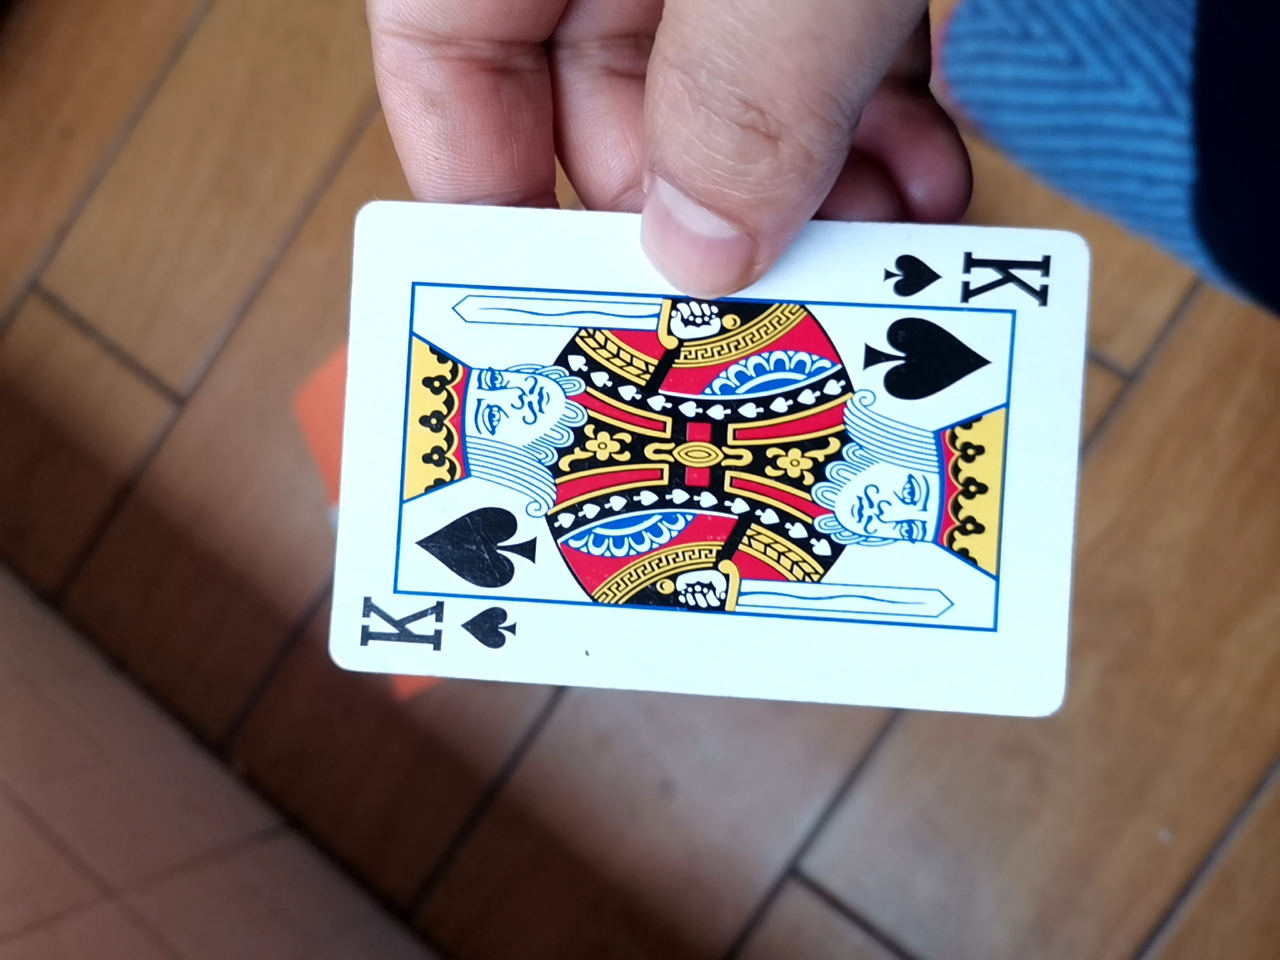ht k: (309, 193, 1090, 724)
